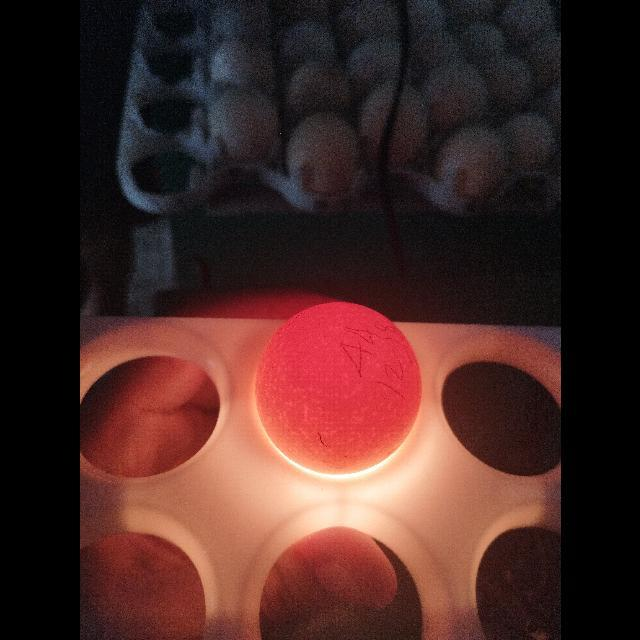A - Good: (252, 299, 426, 479)
